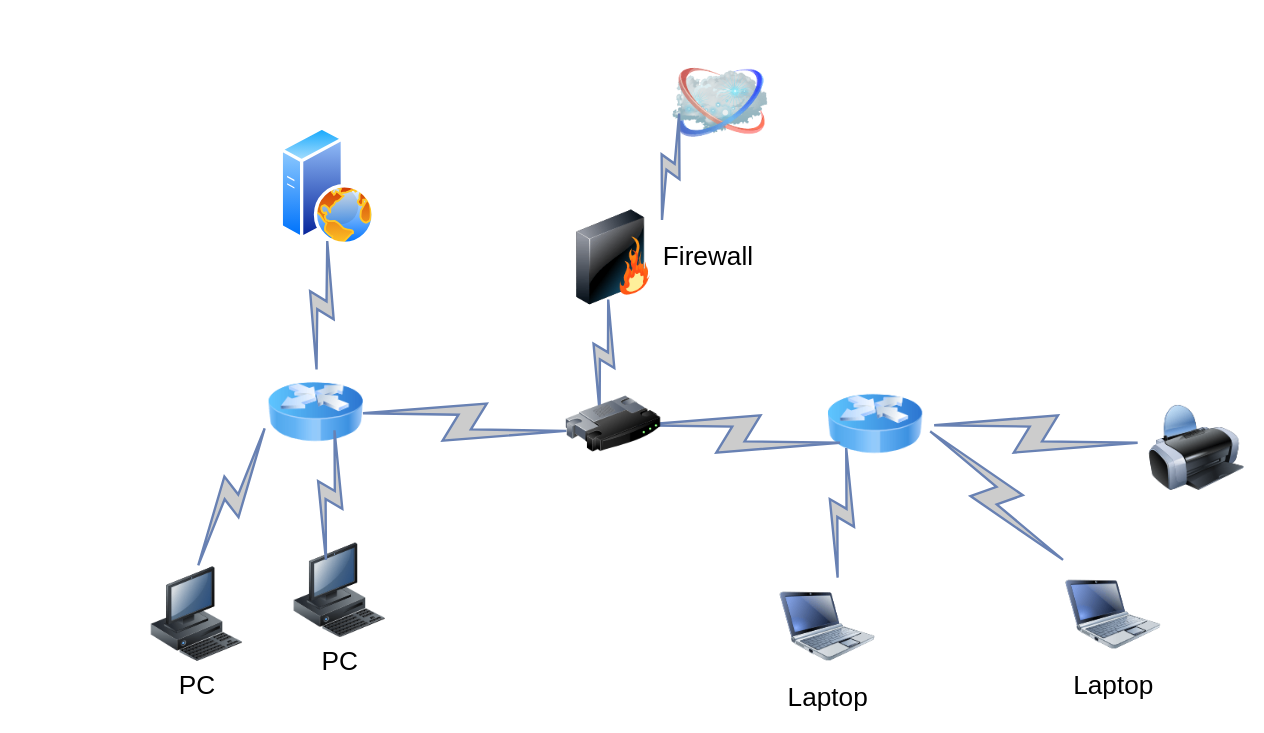
Some shapes in this 1264 by 733 pixel diagram are drawn without their labels. The box of each missing label's shape, as (x1, y1, x2, y2) in pixels:
Internet: (672, 55, 768, 150)
Printer: (1148, 400, 1244, 495)
